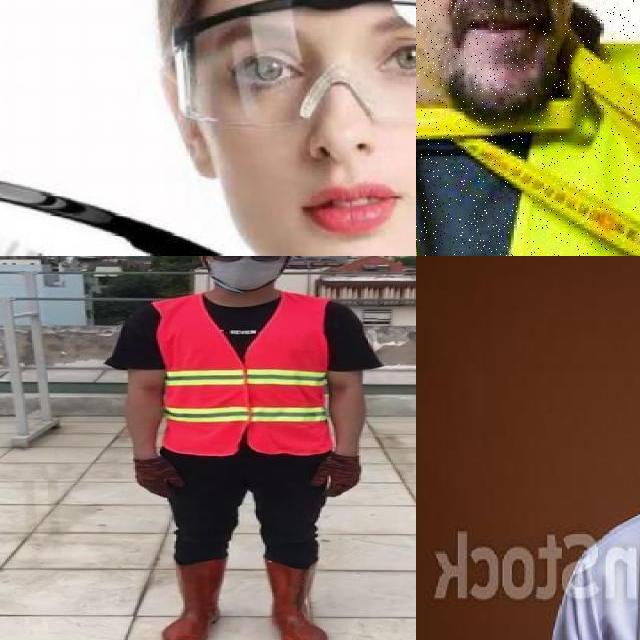boots: (161, 558, 231, 640), (265, 556, 331, 640)
face_nomask: (213, 25, 416, 251), (416, 0, 569, 123)
glasses: (168, 0, 416, 131)
person: (104, 256, 378, 640), (528, 256, 640, 640)
vest: (153, 292, 331, 457)
